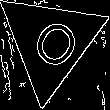O_SW: (20, 9, 81, 76)
